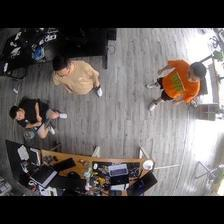normal: (146, 60, 205, 114), (48, 57, 107, 98), (8, 99, 65, 138)
